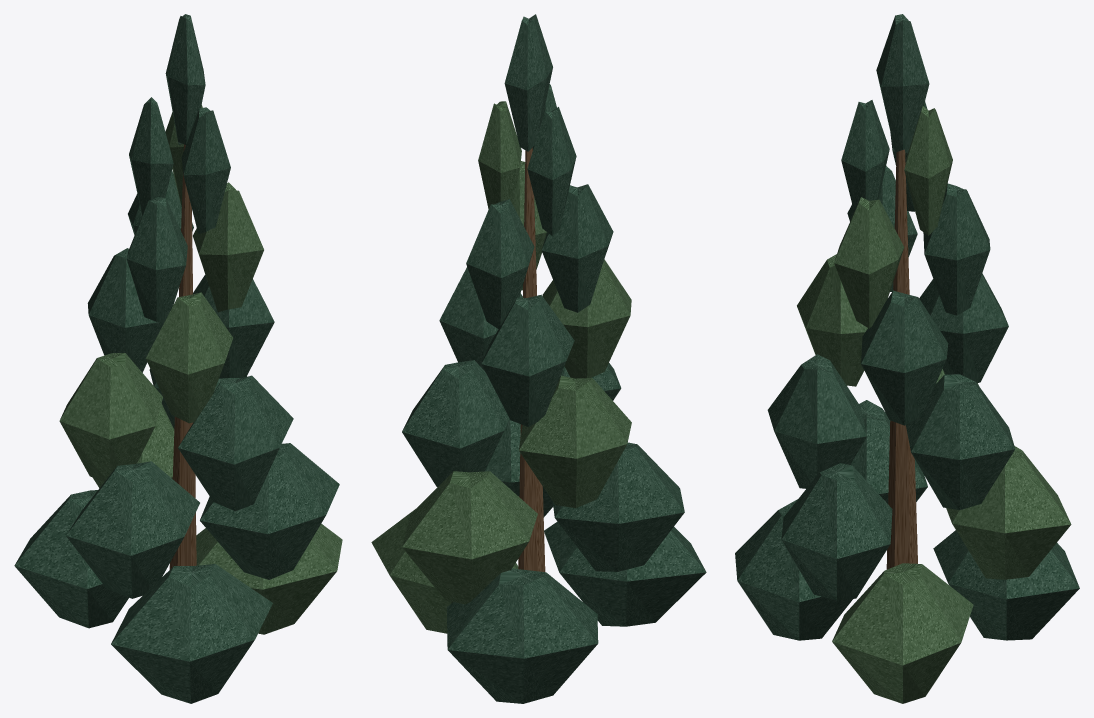
File: tree_03.glb
The picture shows the model from 3 angles, left to right: view 1: azimuth 30°, elevation 25°; view 2: azimuth 150°, elevation 25°; view 3: azimuth 270°, elevation 25°; orthographic projection.
Parts seen in each view (by area): view 1: outdoor_tree_03; view 2: outdoor_tree_03; view 3: outdoor_tree_03.
Part boxes in pixels (x1,y1,x2,y2): outdoor_tree_03: [14, 14, 342, 703]; outdoor_tree_03: [371, 14, 706, 703]; outdoor_tree_03: [735, 14, 1079, 703].
Size of the model in its own units: 3.2 by 6.8 by 3.2.
2 materials, 2 textured.
